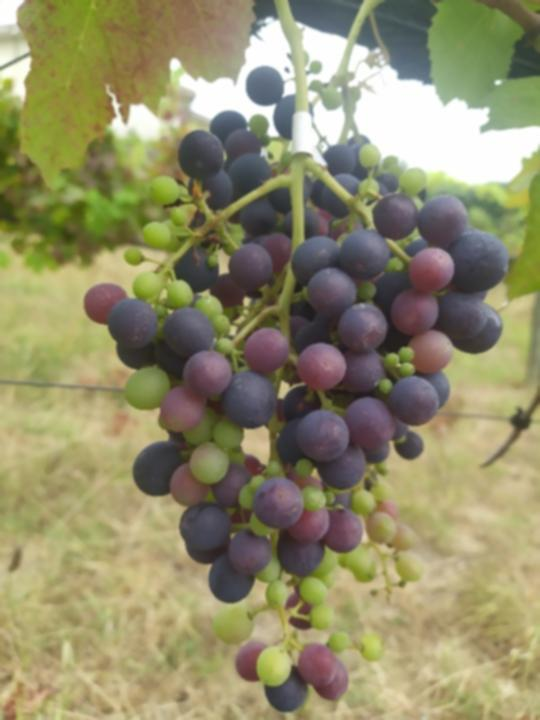grape: (81, 63, 512, 715)
